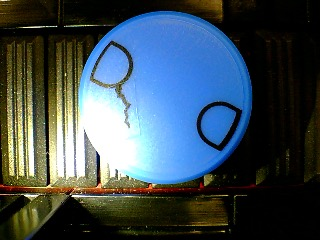CRACK: (77, 10, 253, 183)
